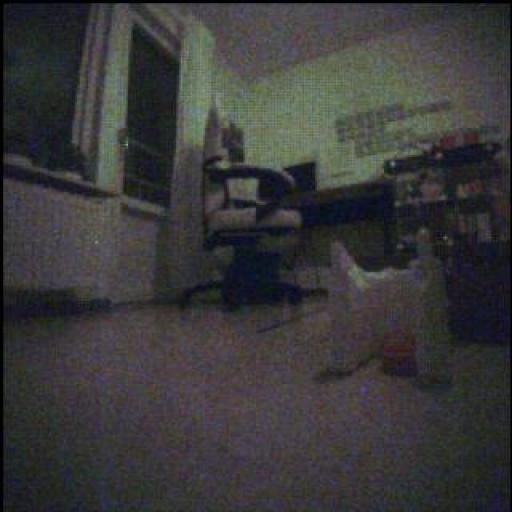basket: (384, 337, 419, 377)
